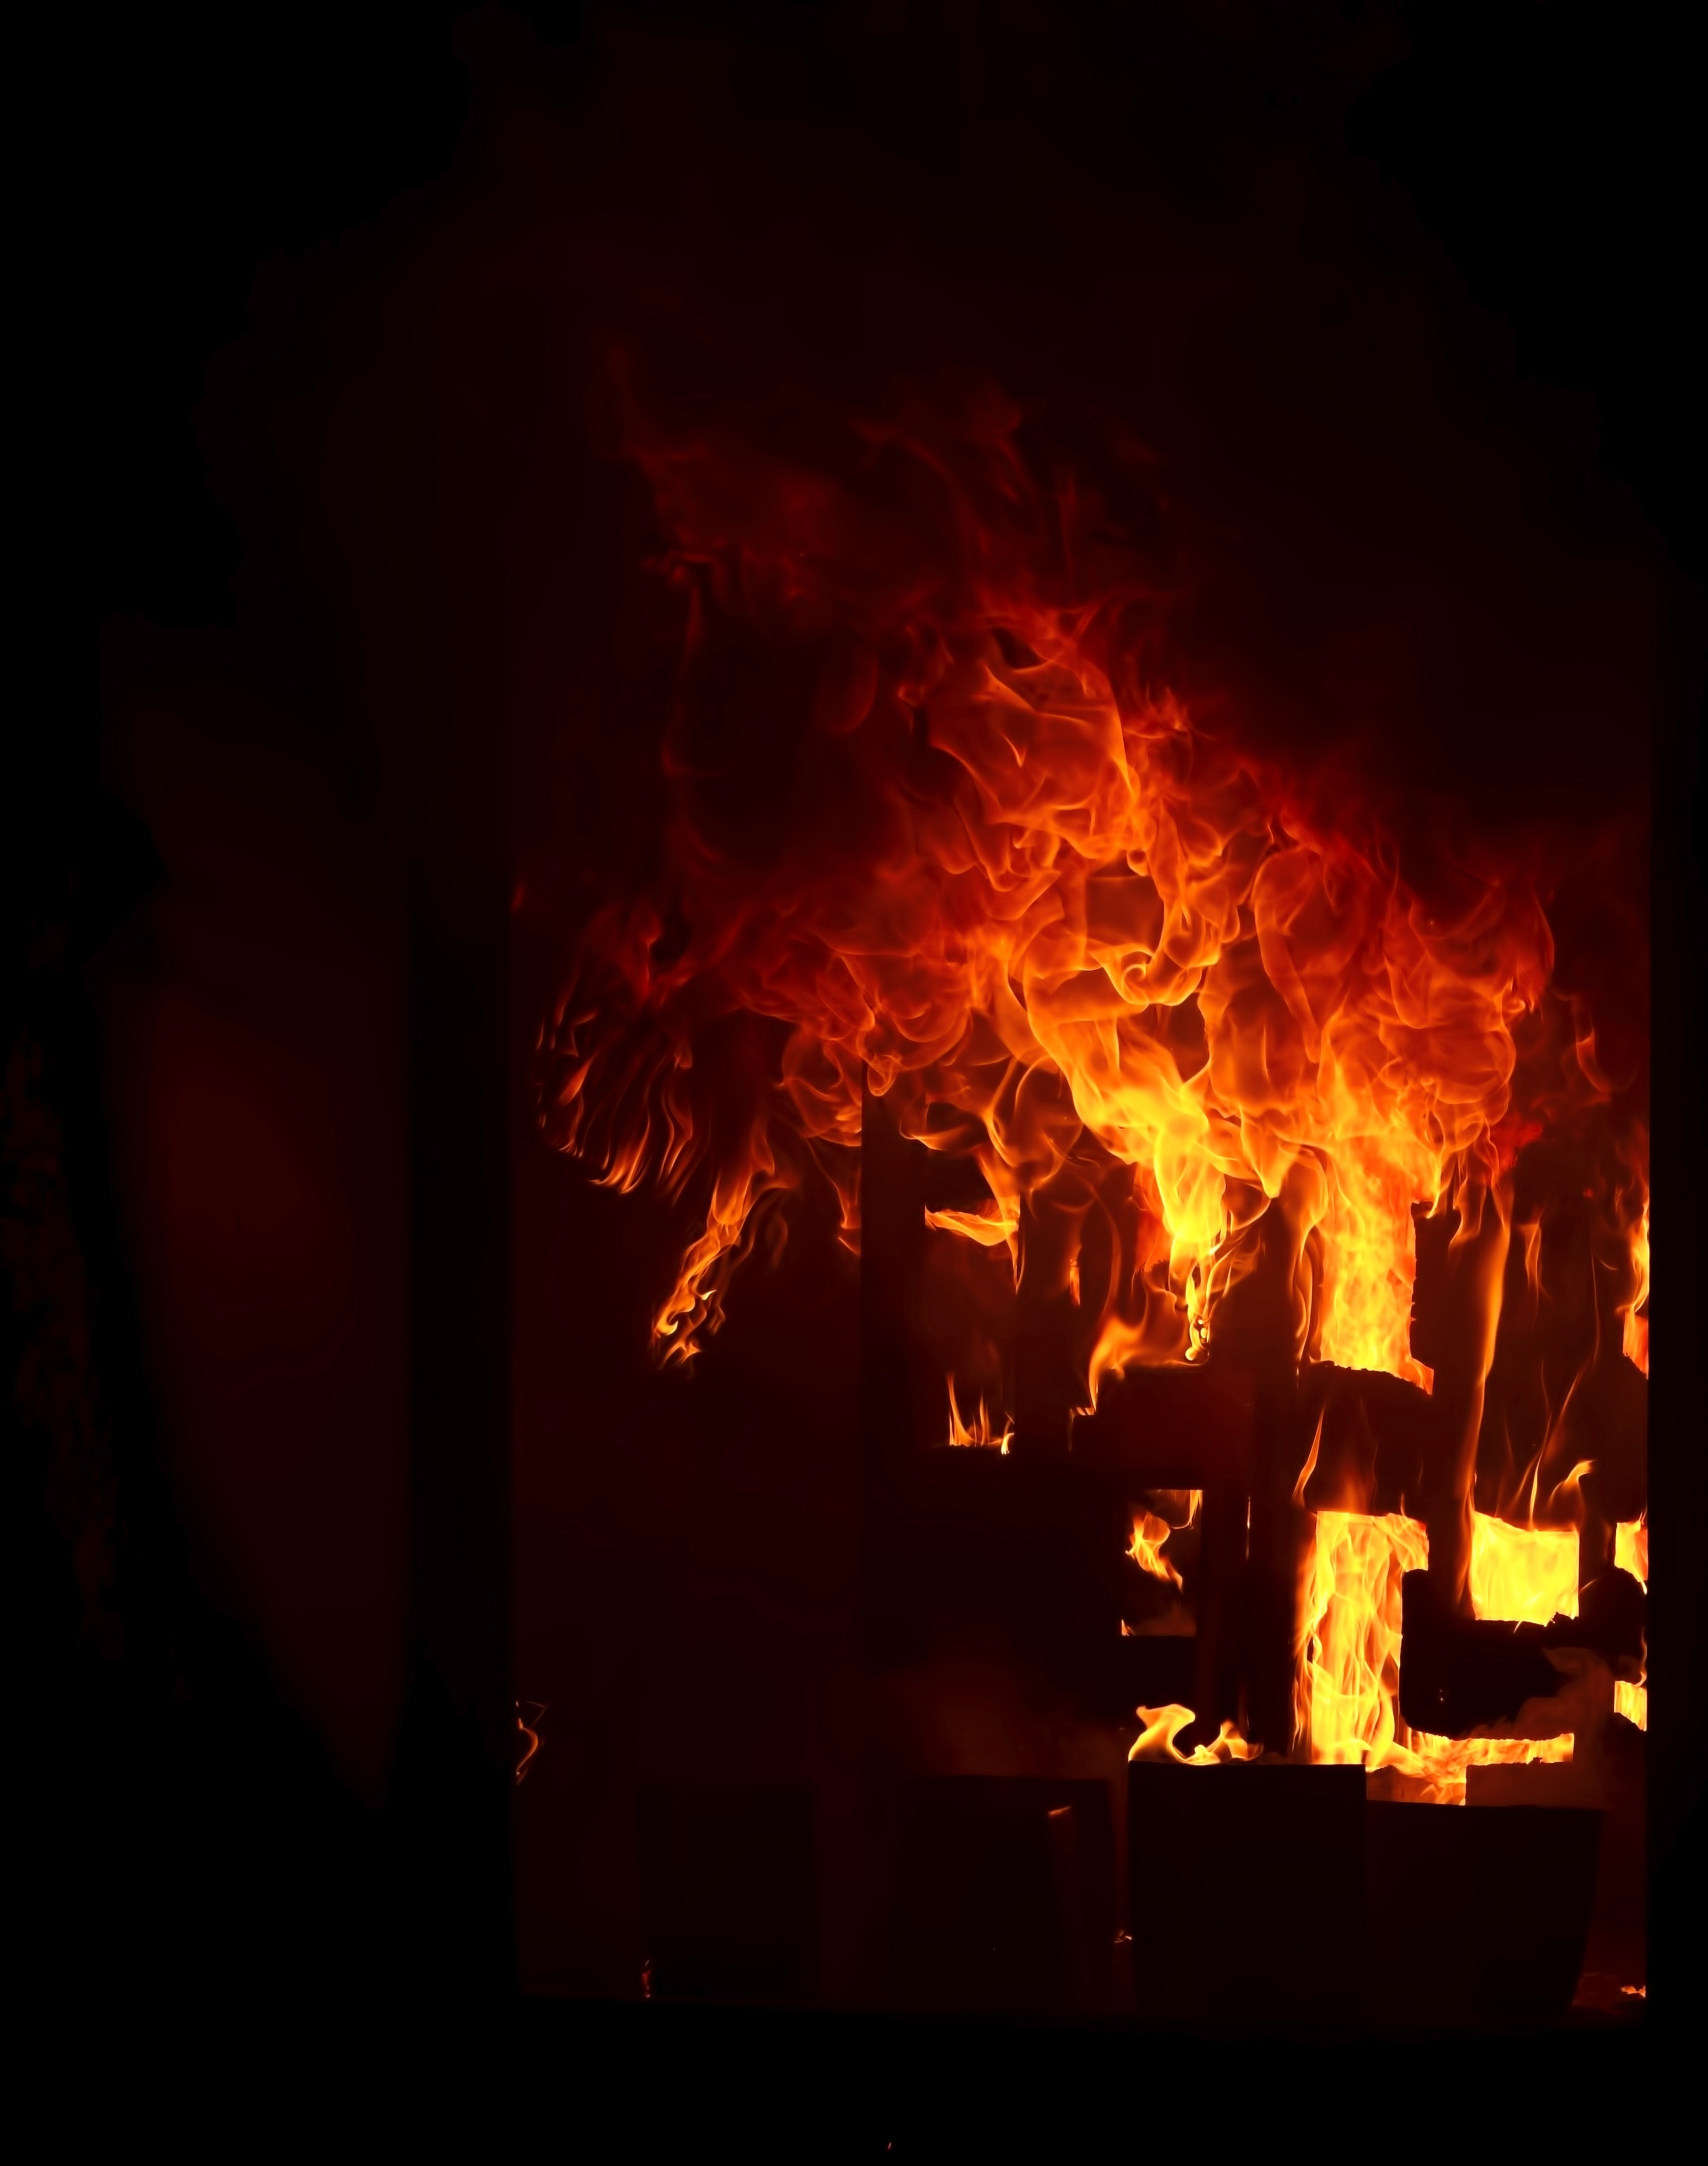fire: (562, 540, 1692, 1821)
